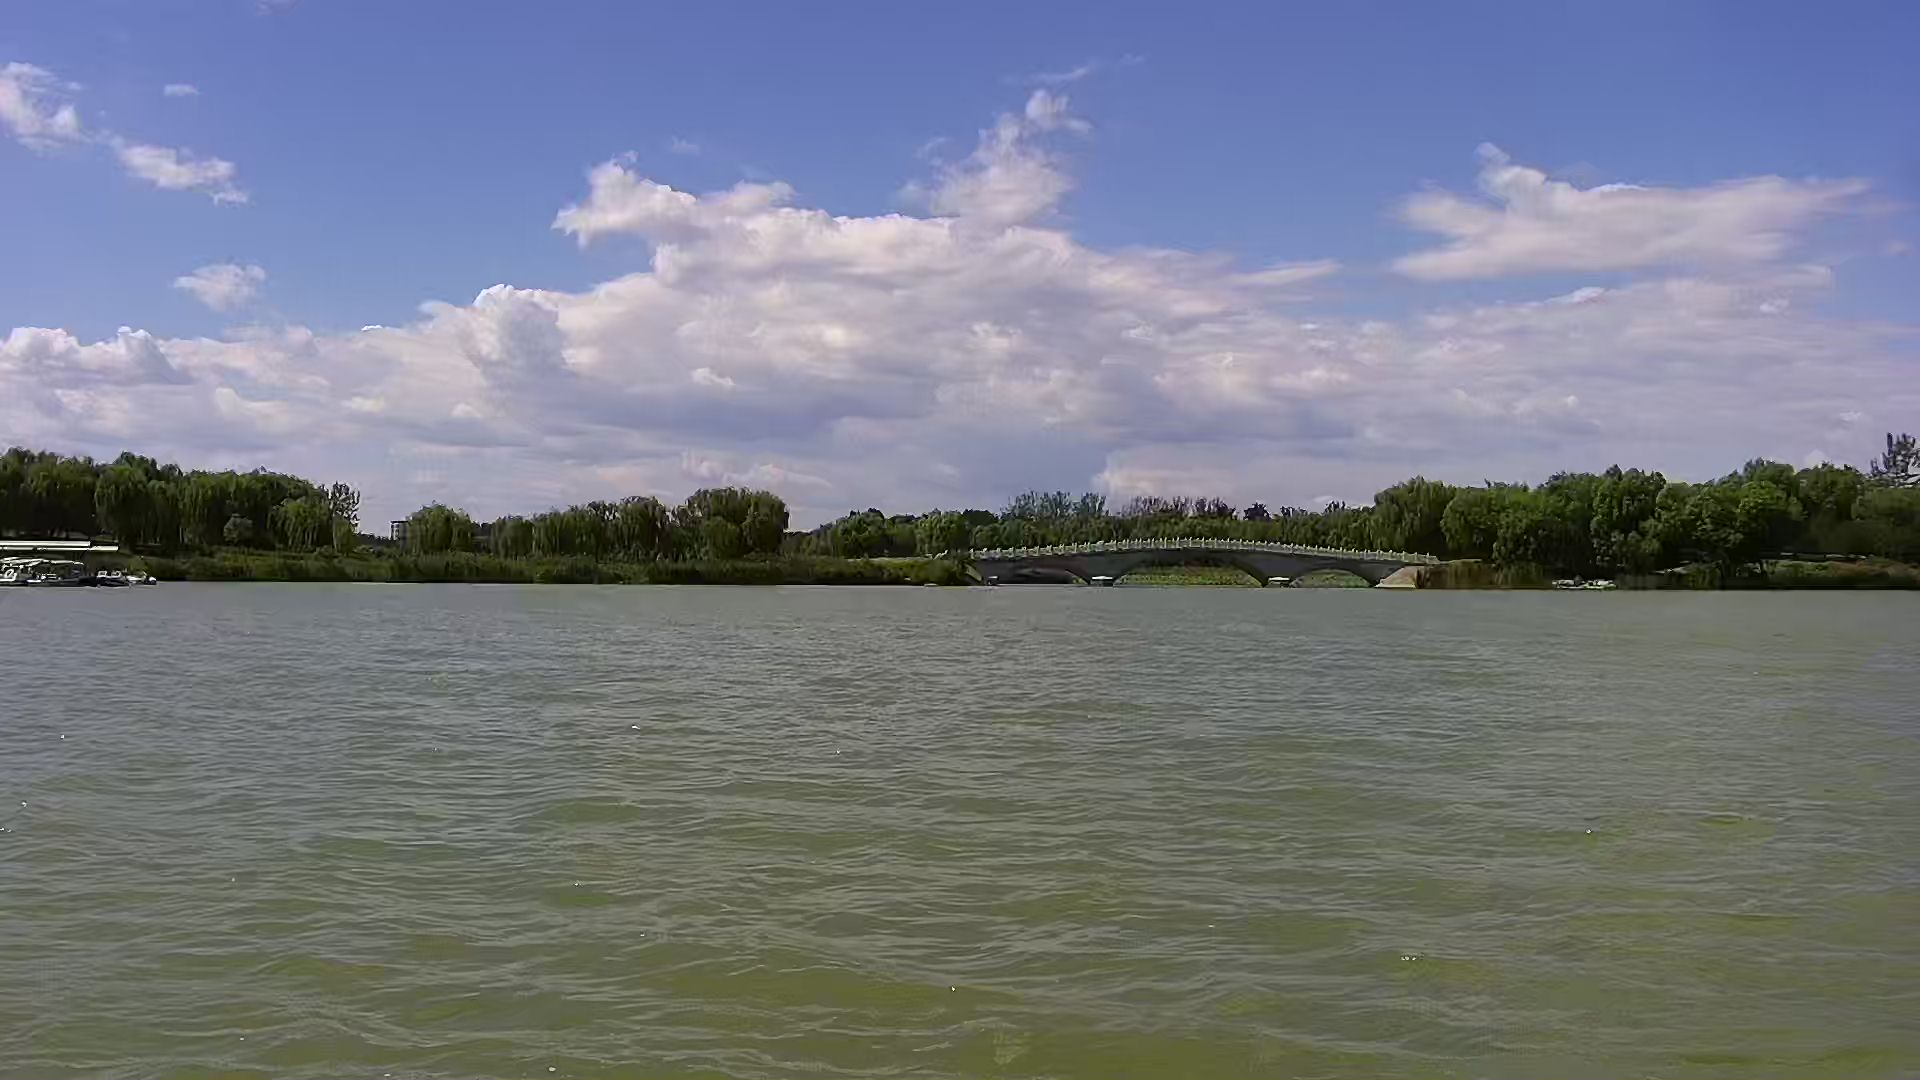bridge: (975, 539, 1435, 591)
